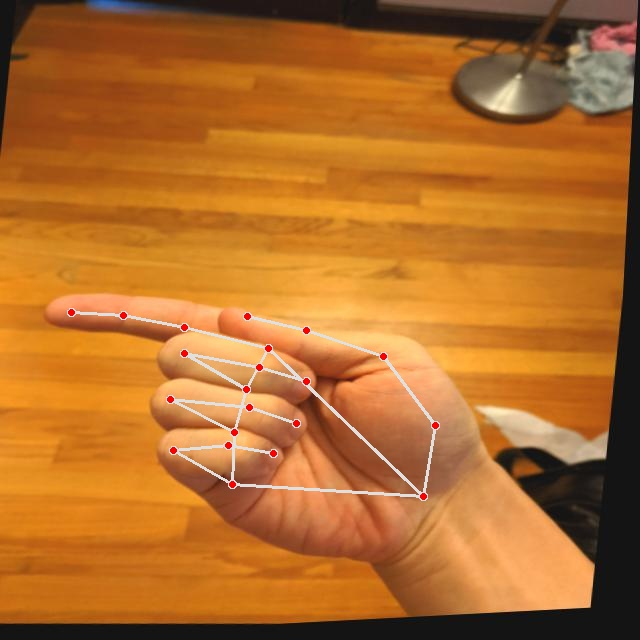G: (15, 267, 507, 591)
